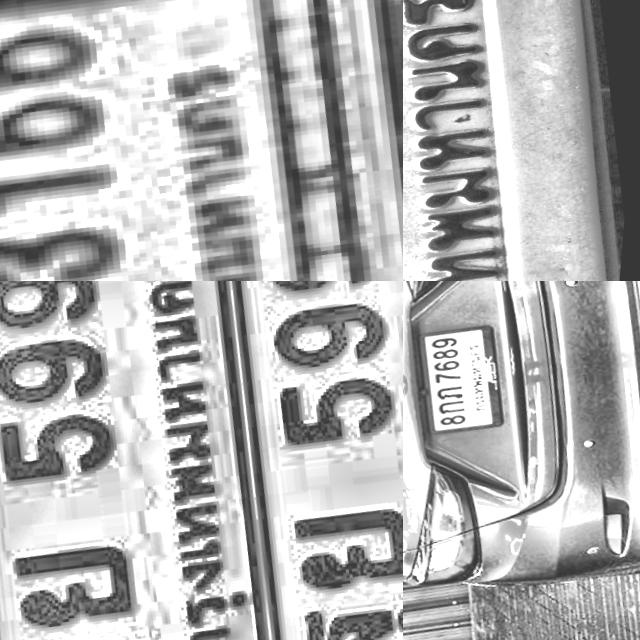license-plate: (0, 281, 332, 640), (0, 0, 403, 281), (169, 281, 403, 640), (403, 0, 640, 281), (403, 310, 528, 439)
